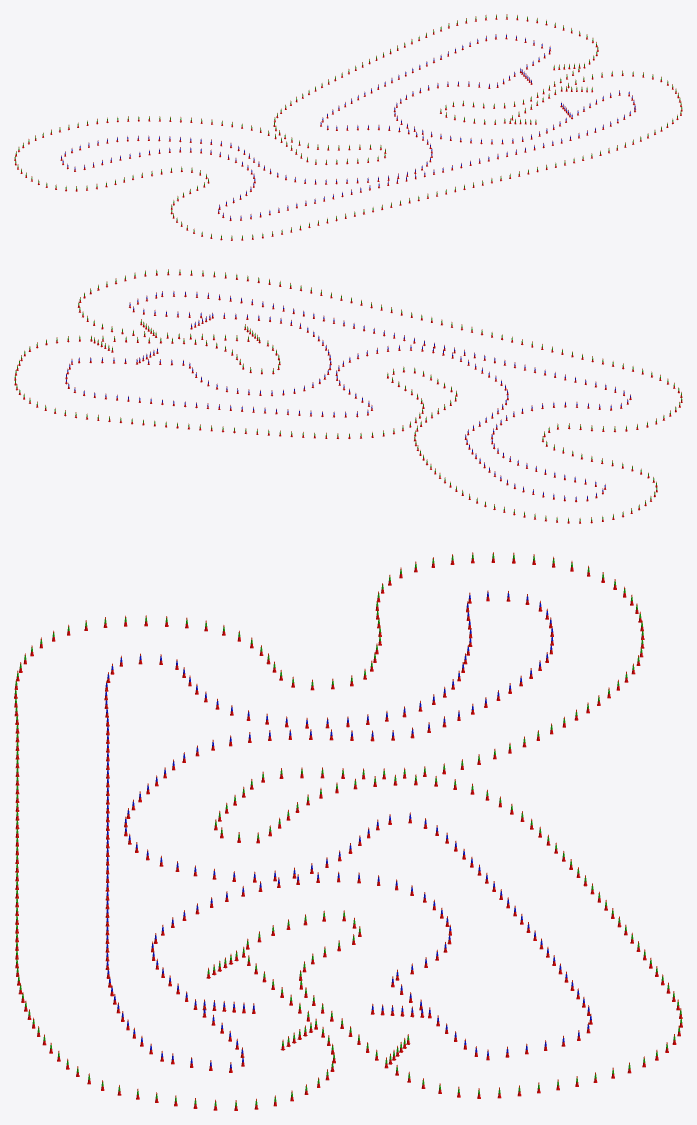
Rendered from CONES.fbx.
The picture shows the model from 3 angles, top to bottom: view 1: azimuth 30°, elevation 25°; view 2: azimuth 150°, elevation 25°; view 3: azimuth 270°, elevation 25°; orthographic projection. The views are drawn at different scales.
Parts seen in each view (by area): view 1: BézierCurve; view 2: BézierCurve; view 3: BézierCurve.
Boxes of the visible parts, x1,y1,x2,y2 form: BézierCurve: [14, 14, 682, 240]; BézierCurve: [14, 269, 682, 523]; BézierCurve: [14, 552, 682, 1110].
Bounding box in the file's own units: 4034 × 7841 × 67.18.
